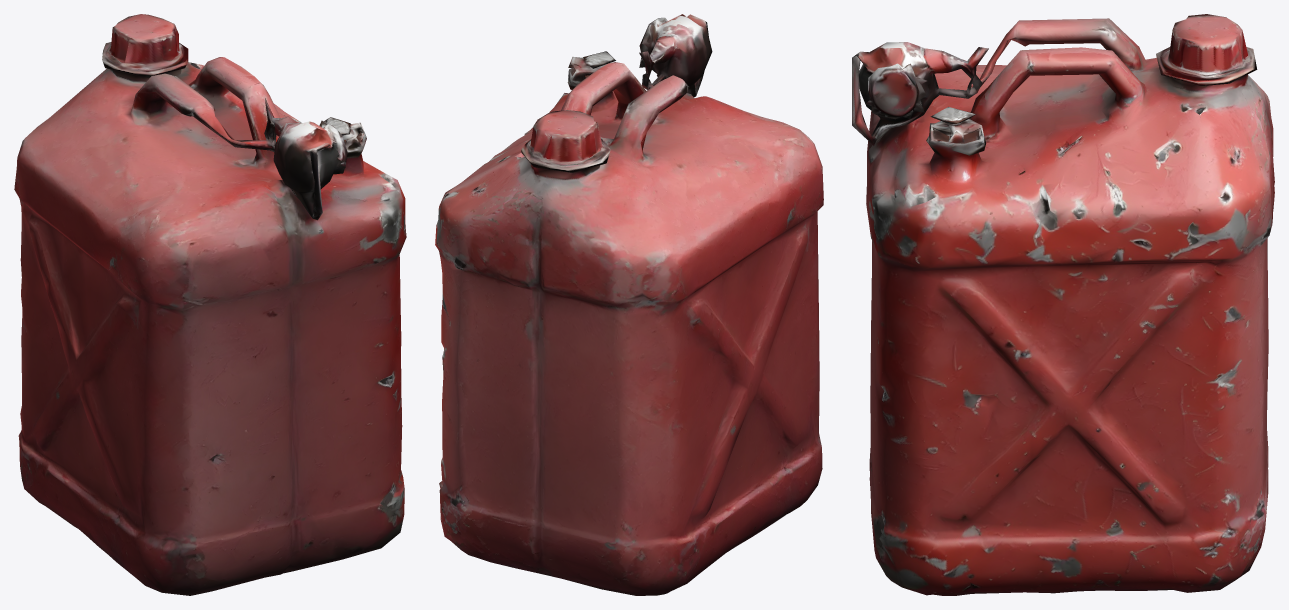
Rendered from jerry_can.fbx.
3 renders of one model, left to right at view 1: azimuth 30°, elevation 25°; view 2: azimuth 150°, elevation 25°; view 3: azimuth 270°, elevation 25°, orthographic. The views are drawn at different scales.
Visible parts, largest first — view 1: jerry_can; view 2: jerry_can; view 3: jerry_can.
Boxes of the visible parts, x1,y1,x2,y2 form: jerry_can: (14,14,406,595); jerry_can: (435,14,823,595); jerry_can: (852,14,1274,595).
Size of the model in its own units: 0.2938 by 0.4698 by 0.3568.
1 material, 1 textured.
